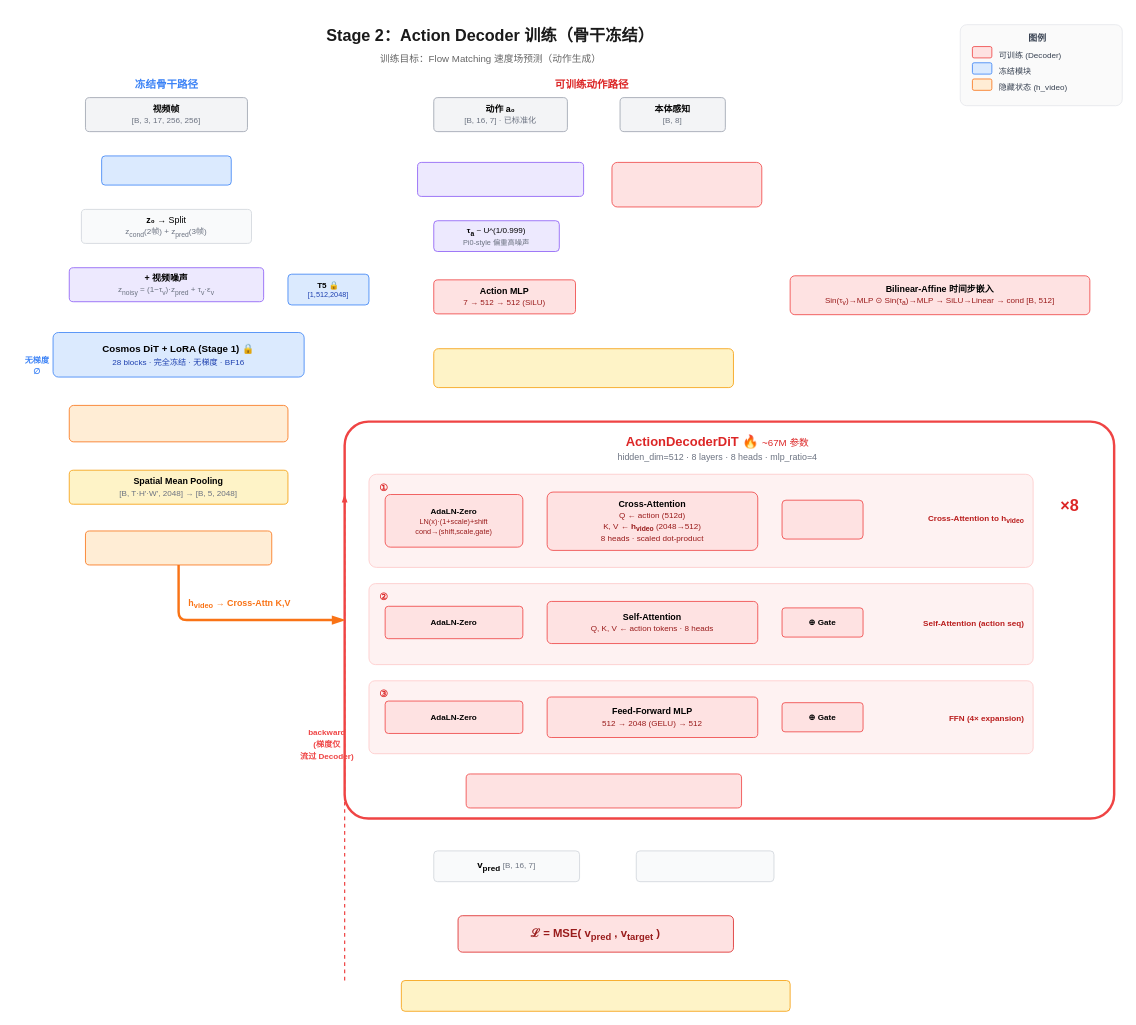
Some shapes in this 1136 by 1025 pixel diagram are drawn without their labels. The shapes that lost their labels are listed below. From the top down, each one's box as (x1, y1, x2, y2) in pixels, then its label:
(101, 155, 231, 185): VAE Encoder 🔒
(417, 162, 584, 196): + 动作噪声 a noisy = (1−τ a )·a₀ + τ a ·ε a
(611, 162, 762, 207): Proprio MLP 8 → 512 → 512 (SiLU) 10% mask → learned token
(433, 348, 733, 388): 序列拼接 + 位置编码 [proprio, action₁, ..., action₁₆] + pos_embed → [B, 17, 512]
(68, 405, 288, 442): 🪝 Hook @ Layer 19 提取隐藏状态 [B, T·H'·W', 2048]
(781, 499, 863, 539): ⊕ Gate x + gate·out
(85, 530, 272, 565): h video [B, 5, 2048] · detached
(465, 773, 742, 808): LayerNorm → Linear(512→7) 零初始化 · 仅取 action tokens (跳过 proprio)
(635, 850, 774, 882): v target = ε a − a₀
(401, 980, 790, 1011): AdamW lr=1e-4 · warmup 1K → linear decay · grad_clip=10 · 仅更新 Decoder 参数
